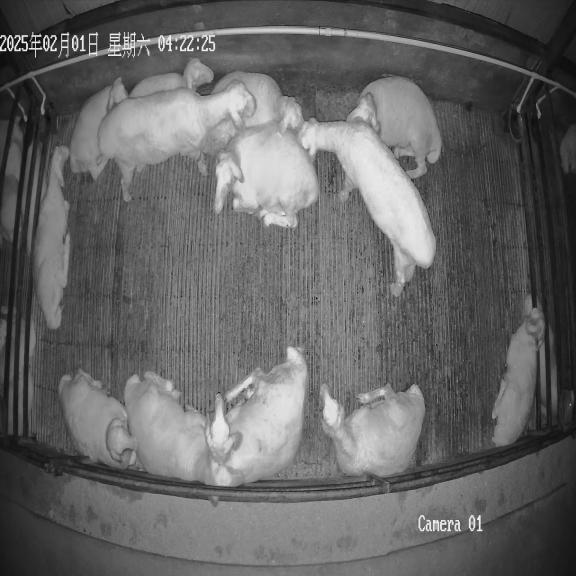lying: (207, 346, 307, 483), (124, 371, 243, 486), (214, 122, 319, 228), (346, 76, 442, 180), (320, 384, 425, 479), (492, 293, 545, 446), (58, 369, 137, 468), (34, 146, 70, 330), (70, 78, 128, 179), (211, 71, 304, 130), (129, 58, 213, 98)
stand: (298, 118, 436, 296), (98, 88, 253, 201)
